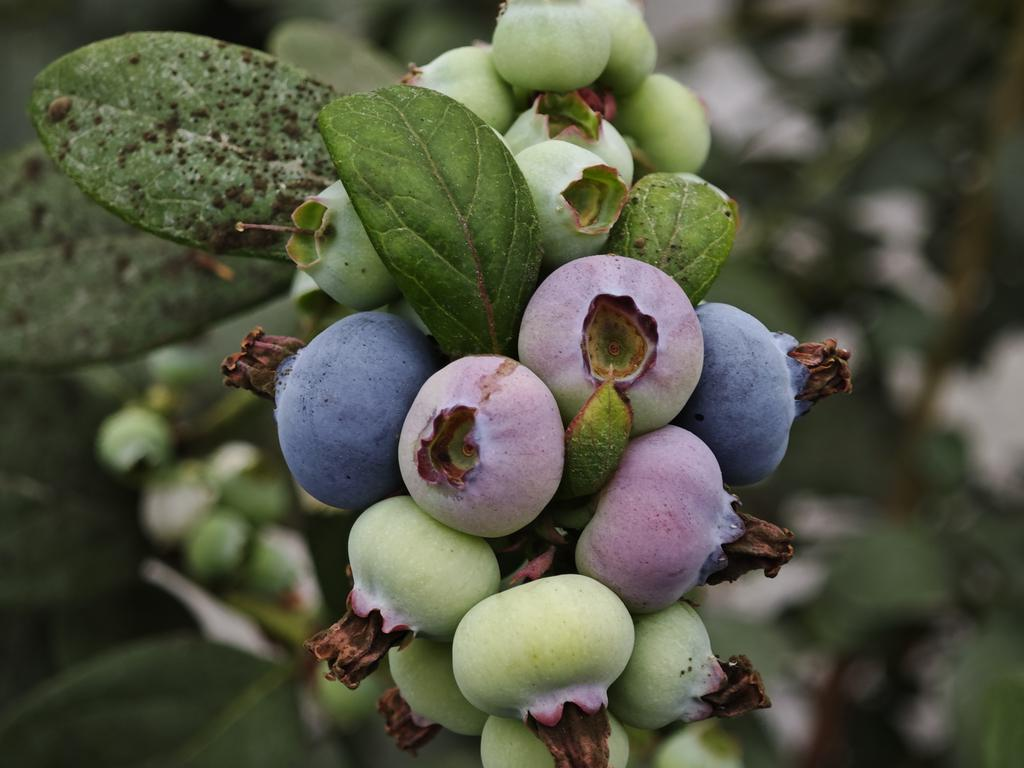RipeBlueBerry: (267, 305, 437, 514), (689, 299, 821, 493)
Semi-RipeBlueBerry: (515, 249, 709, 433), (395, 352, 569, 542), (574, 425, 741, 618)
UnripeBlueBerry: (449, 568, 638, 729)
